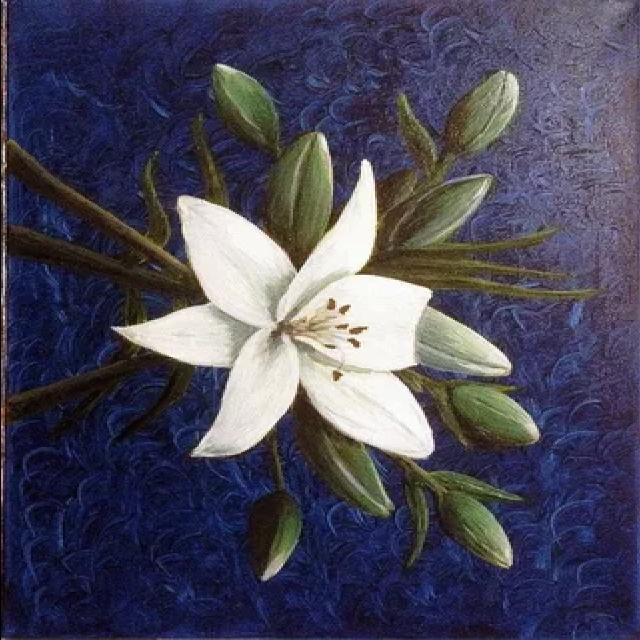lily: (106, 155, 464, 472)
